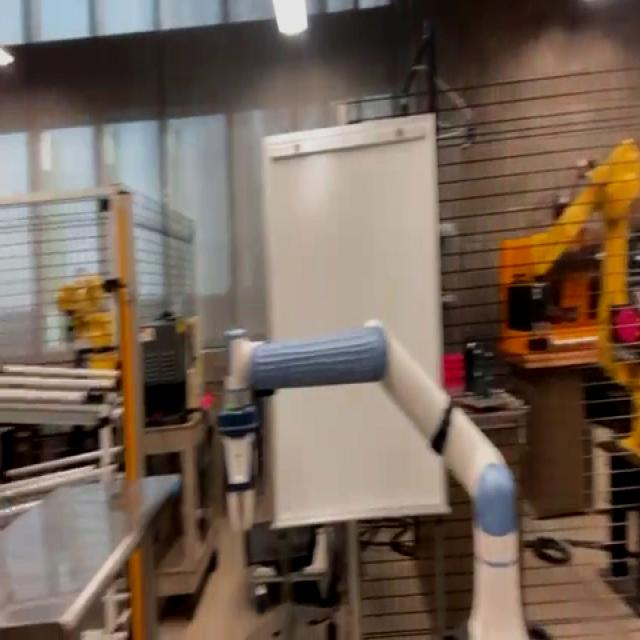robot: (216, 316, 546, 637)
